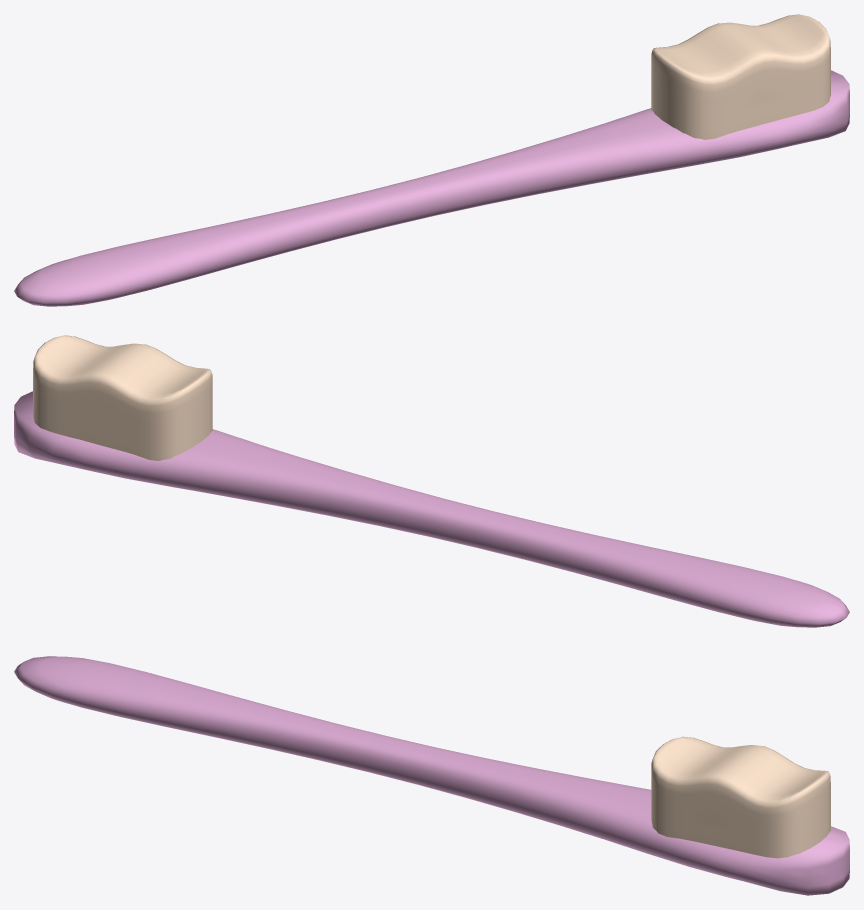
The model's file is Toothbrush.fbx.
The picture shows the model from 3 angles, top to bottom: view 1: azimuth 30°, elevation 25°; view 2: azimuth 150°, elevation 25°; view 3: azimuth 330°, elevation 25°; orthographic projection.
Parts seen in each view (by area): view 1: Toothbrush; view 2: Toothbrush; view 3: Toothbrush.
Part boxes in pixels (box(x1,y1,x2,y2)): Toothbrush: box(14, 14, 849, 306); Toothbrush: box(14, 335, 849, 627); Toothbrush: box(14, 656, 849, 895).
Size of the model in its own units: 113 by 13.32 by 14.4.
1 material, 1 textured.
